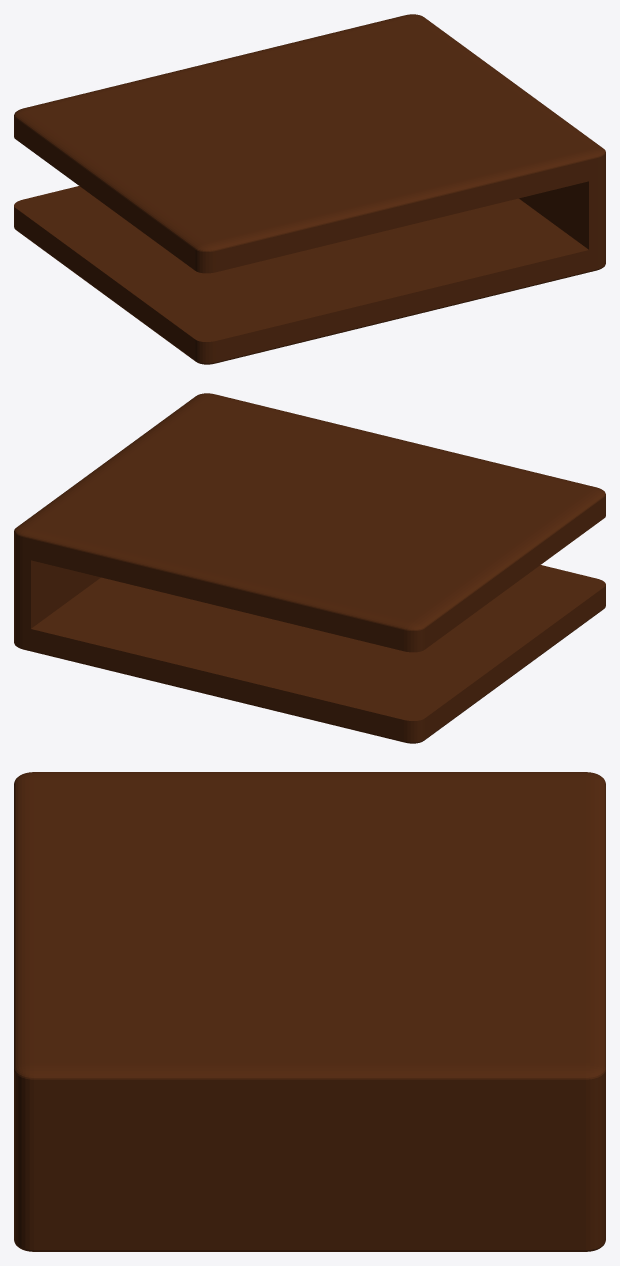
The model's file is wallet.fbx.
The picture shows the model from 3 angles, top to bottom: view 1: azimuth 30°, elevation 25°; view 2: azimuth 150°, elevation 25°; view 3: azimuth 270°, elevation 25°; orthographic projection. The views are drawn at different scales.
Parts seen in each view (by area): view 1: Cube; view 2: Cube; view 3: Cube.
Part boxes in pixels (x1,y1,x2,y2): Cube: (14, 14, 605, 364); Cube: (14, 393, 605, 743); Cube: (14, 772, 605, 1251).
Size of the model in its own units: 31.87 by 8.89 by 26.06.
